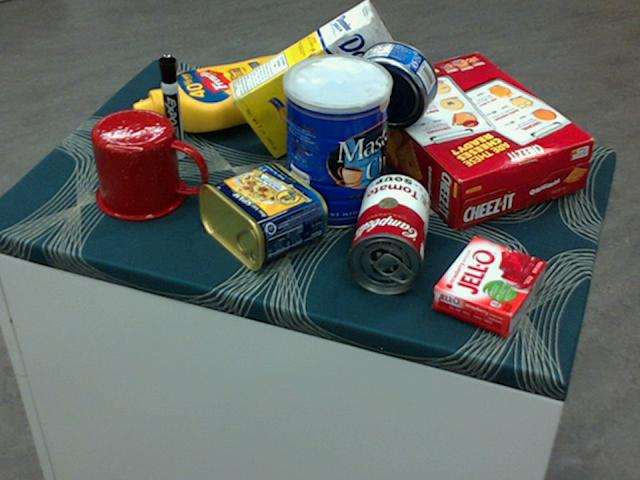cracker_box: (354, 51, 591, 230)
gelatin_box: (432, 236, 545, 334)
large_marker: (156, 54, 186, 160)
master_chef_can: (282, 55, 390, 230)
mug: (91, 108, 205, 221)
mustard_bottle: (131, 53, 305, 131)
potted_meat_can: (196, 162, 326, 271)
sugar_box: (225, 0, 412, 159)
tomato_soup_can: (344, 173, 431, 293)
tuna_fish_can: (349, 39, 437, 126)
